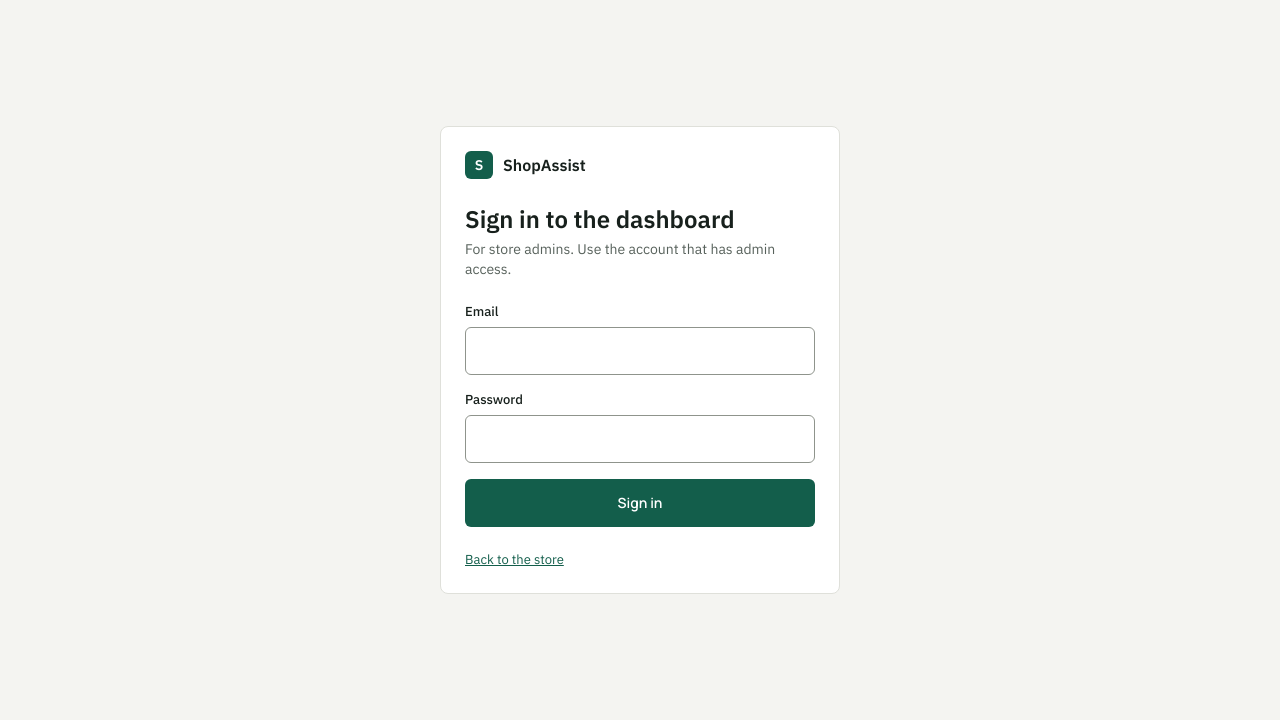
Scenario: who gets in › without a token: the sign in screen, which signs an admin in
Expected: the heading "Sign in to the dashboard" is shown, x1=465 y1=203 x2=735 y2=235
Type "abraham@example.com" into the field labelled "Email" at [640, 351], box x1=465 y1=327 x2=815 y2=375
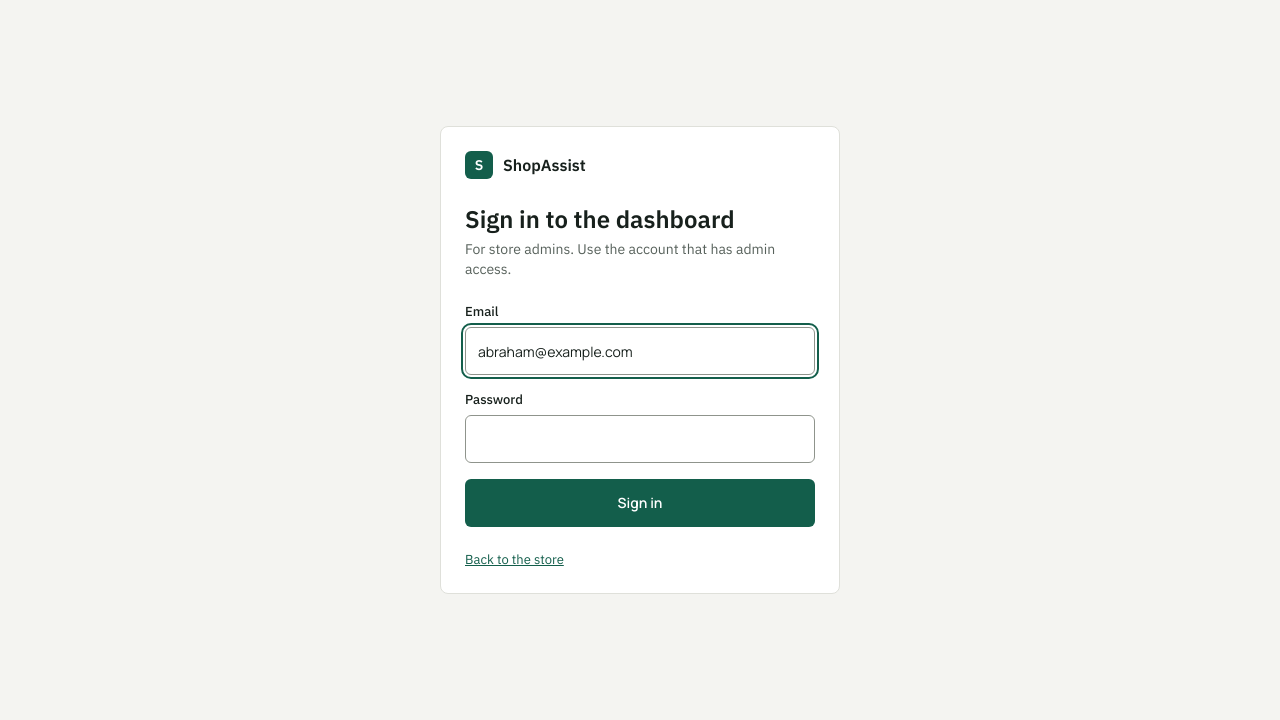
Type "correct-horse" into the password field labelled "Password" at [640, 439], box x1=465 y1=415 x2=815 y2=463
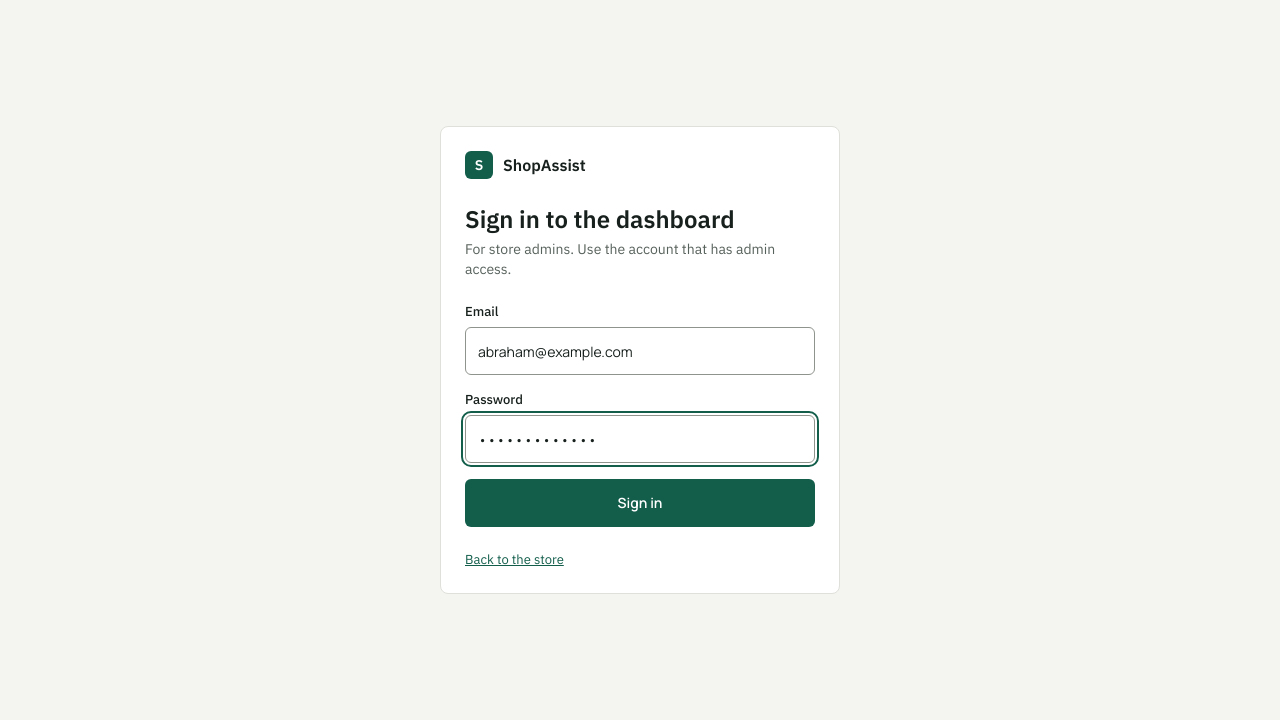
Click the button "Sign in" at [640, 503], box x1=465 y1=479 x2=815 y2=527
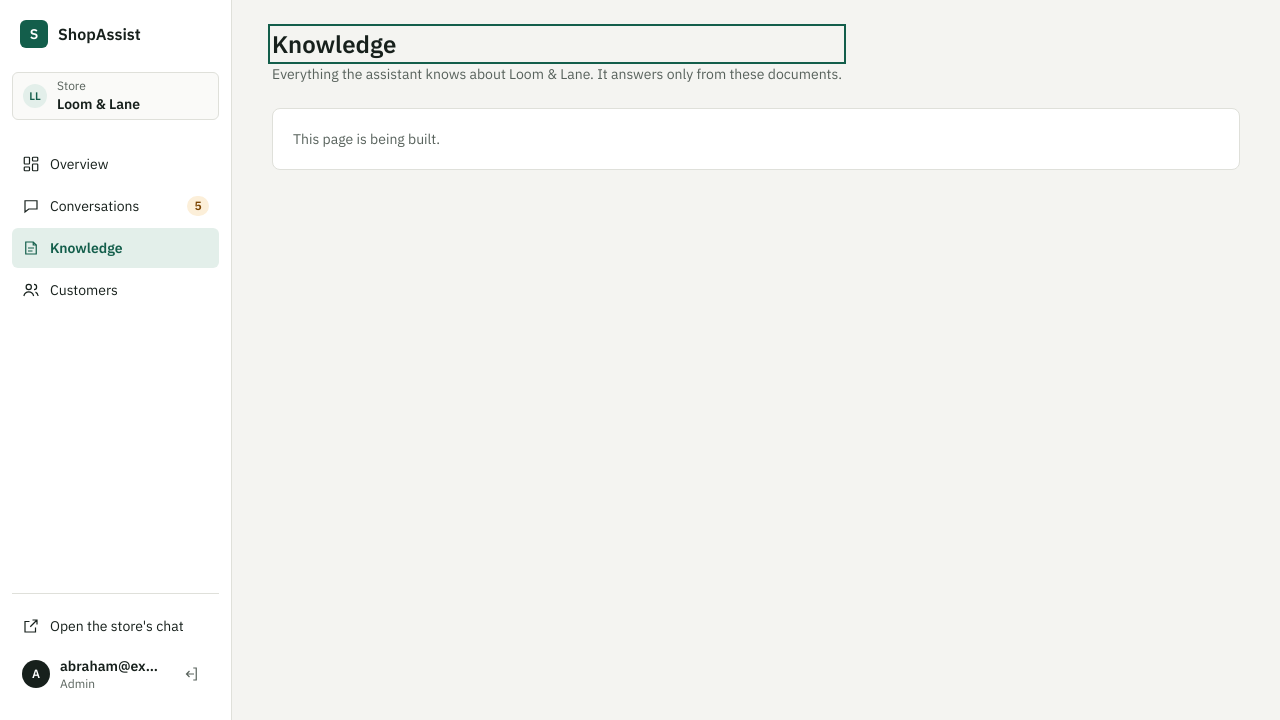
Now the heading "Knowledge" is shown, box x1=272 y1=28 x2=396 y2=60
